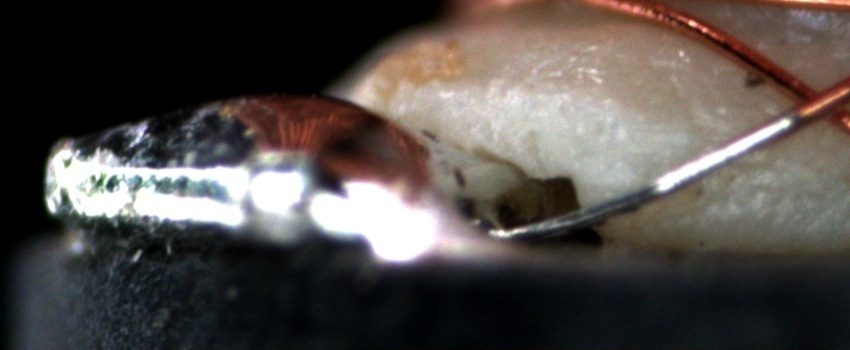CL: (774, 70, 847, 132)
DL: (630, 148, 788, 186)
TS: (485, 111, 798, 242)
